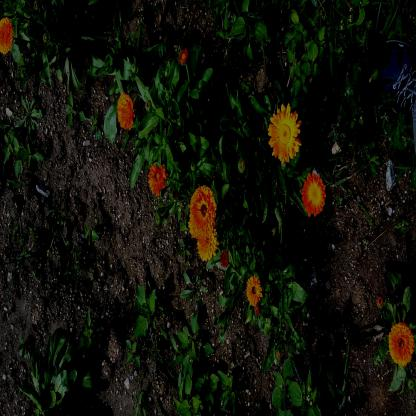marigold: (268, 107, 300, 160), (191, 186, 217, 233), (388, 321, 414, 365), (302, 172, 325, 215), (198, 226, 219, 259), (117, 92, 134, 129), (247, 275, 261, 305)
